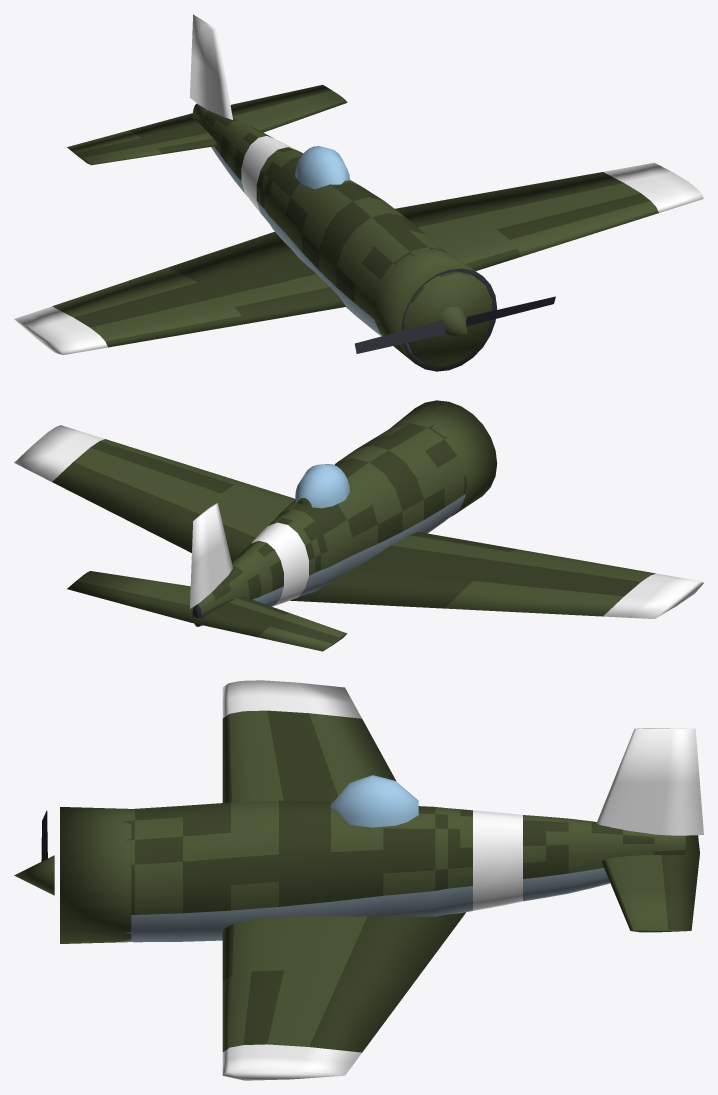
The picture shows the model from 3 angles, top to bottom: view 1: azimuth 30°, elevation 25°; view 2: azimuth 150°, elevation 25°; view 3: azimuth 270°, elevation 25°; orthographic projection. The views are drawn at different scales.
Parts seen in each view (by area): view 1: body, prop; view 2: body; view 3: body, prop.
Part boxes in pixels (bbox=[...]): body: bbox=[14, 14, 703, 371]; prop: bbox=[355, 296, 555, 353]; body: bbox=[14, 400, 703, 651]; body: bbox=[60, 680, 703, 1080]; prop: bbox=[14, 810, 54, 895].
Size of the model in its own units: 9 by 2.26 by 6.76.
